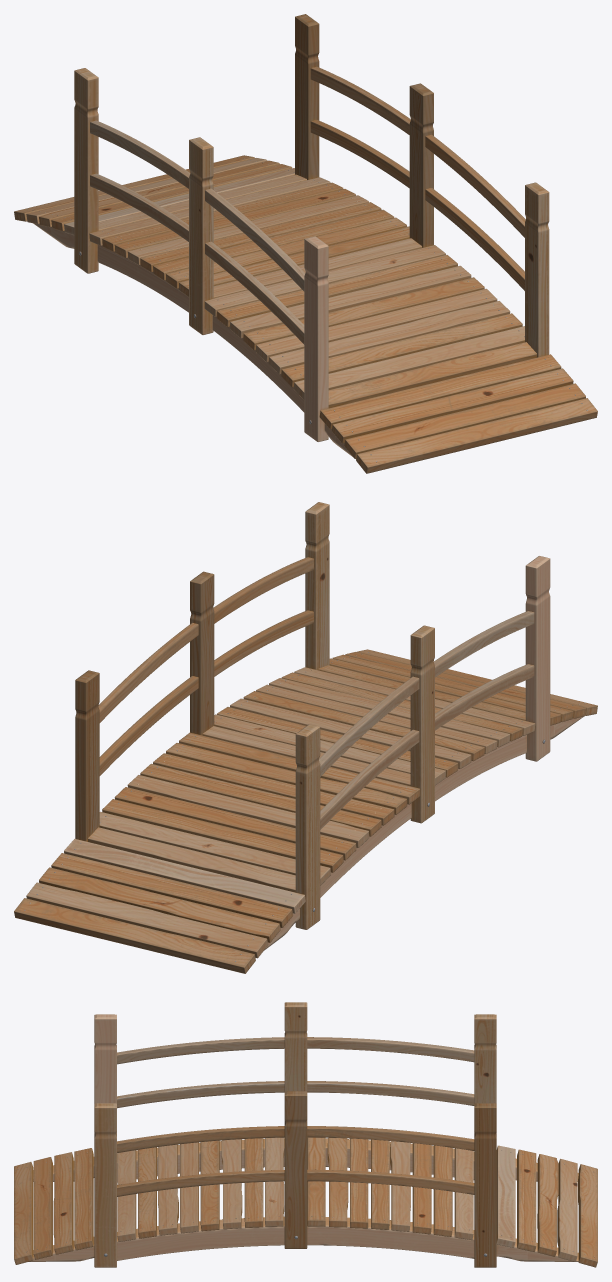
File: footbridge_1256.obj
3 renders of one model, top to bottom at view 1: azimuth 30°, elevation 25°; view 2: azimuth 150°, elevation 25°; view 3: azimuth 270°, elevation 25°, orthographic. The views are drawn at different scales.
Parts seen in each view (by area): view 1: footbridge_1256_wood; view 2: footbridge_1256_wood; view 3: footbridge_1256_wood.
Boxes of the visible parts, x1=… form: footbridge_1256_wood: x1=14, y1=14, x2=597, y2=473; footbridge_1256_wood: x1=14, y1=502, x2=597, y2=973; footbridge_1256_wood: x1=14, y1=1002, x2=597, y2=1267.
Size of the model in its own units: 83.36 by 71.37 by 218.
Materials: 2 (2 with a texture image).
